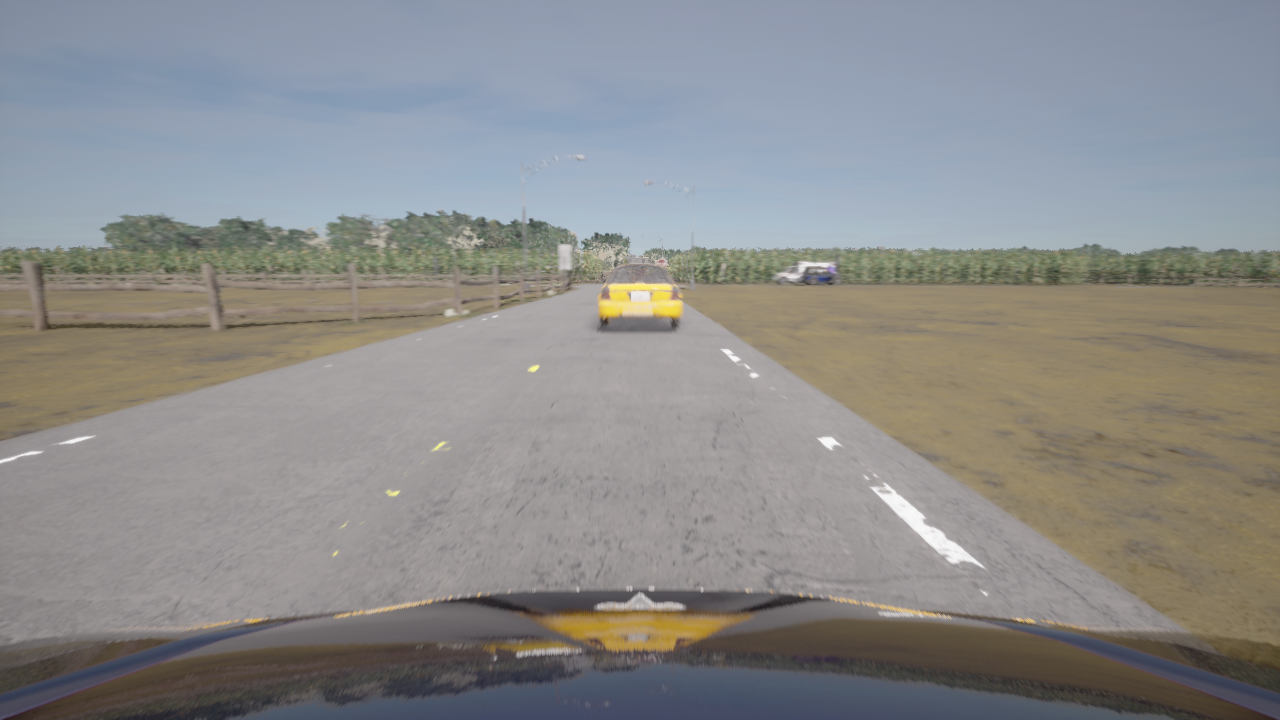cyclist: (0, 588, 1279, 719), (598, 258, 681, 327), (772, 261, 836, 285), (801, 267, 843, 285)
